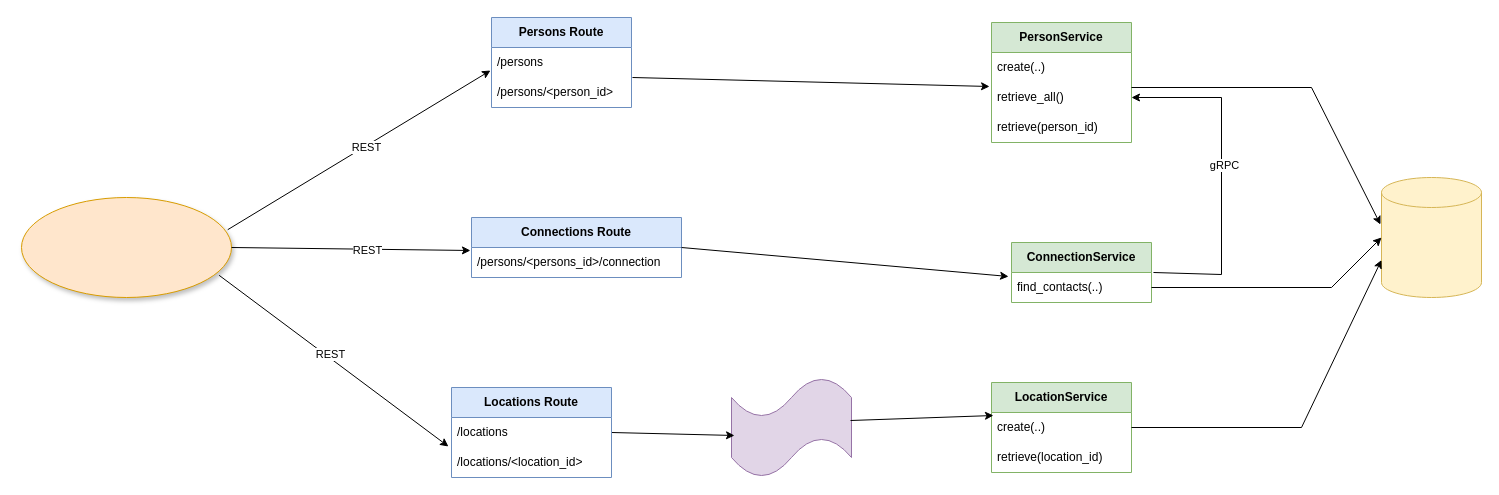
The diagram is 1499 pixels wide and 495 high, and some of its shapes have lost their labels. The shapes that lost their labels are listed below. From the top down, each one's centre as x and y in pixels, then its label:
the point at 127,248: UdaConnect Frontend Client (usually a mobile phone)
the point at 1431,237: PostgreSQL
the point at 791,427: Kafka
